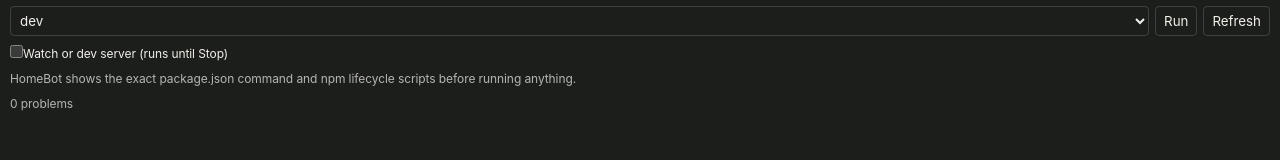
Scenario: late restored status cannot replace a newly submitted watch task and Stop rejection is visible
The image size is (1280, 160).
Click the button "Run".
click(1176, 21)  # box [1155, 6, 1197, 36]
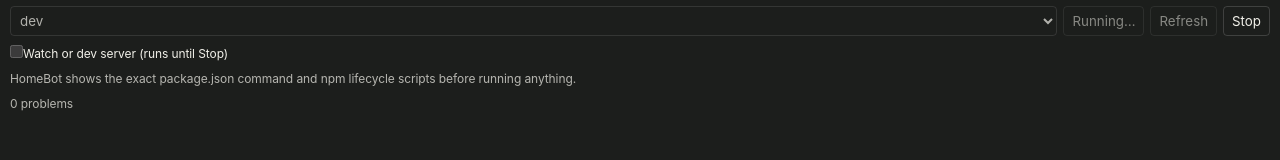
Expected: the button "Running…" is disabled, [1064, 6, 1144, 36]
Click the button "Stop".
click(1247, 21)  # box [1223, 6, 1270, 36]
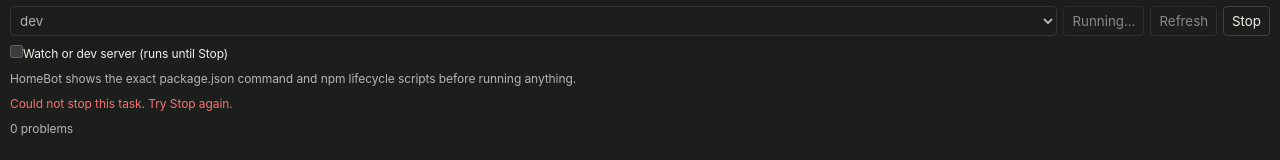
Expected: the message shows "Could not stop this task", [10, 96, 233, 111]
